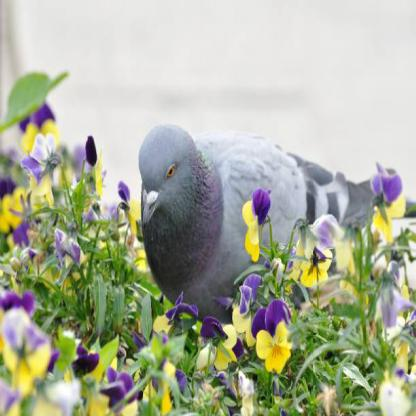Rock Pigeon: (135, 123, 355, 306)
